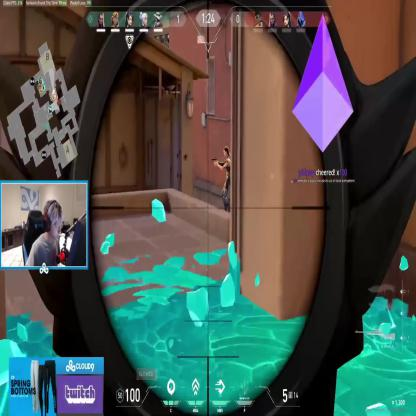enemy: (213, 146, 231, 214)
enemy_head: (224, 148, 230, 160)
